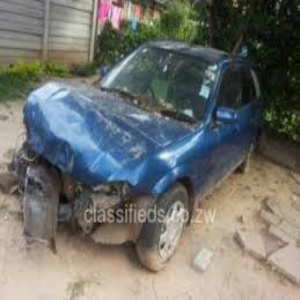bonnet: (30, 89, 162, 181)
